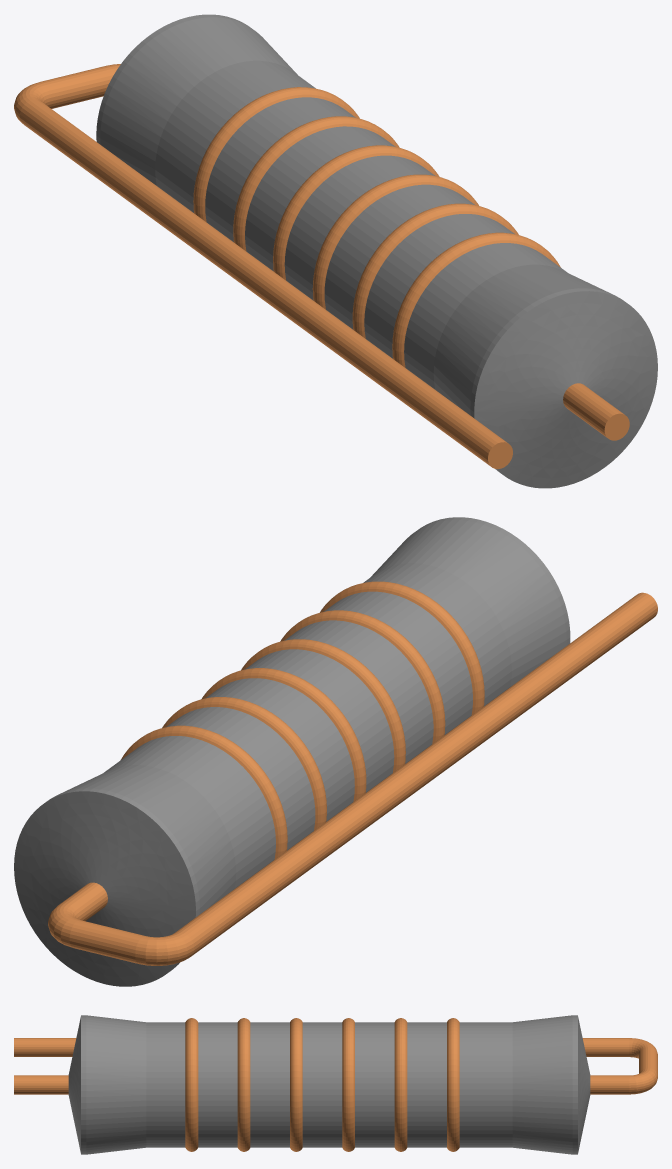
The model's file is L_Axial_L30.0mm_D8.0mm_P5.08mm_Vertical_Fastron_77A.glb.
The picture shows the model from 3 angles, top to bottom: view 1: azimuth 30°, elevation 25°; view 2: azimuth 150°, elevation 25°; view 3: azimuth 270°, elevation 25°; orthographic projection. The views are drawn at different scales.
Visible parts, largest first — view 1: Shape_IndexedFaceSet.002, Shape_IndexedFaceSet.025, Shape_IndexedFaceSet.018, Shape_IndexedFaceSet.017, Shape_IndexedFaceSet.004, Shape_IndexedFaceSet.005, Shape_IndexedFaceSet.015, Shape_IndexedFaceSet.007, Shape_IndexedFaceSet.013, Shape_IndexedFaceSet.009, Shape_IndexedFaceSet.011, Shape_IndexedFaceSet.006 (+9 smaller); view 2: Shape_IndexedFaceSet.020, Shape_IndexedFaceSet.025, Shape_IndexedFaceSet.004, Shape_IndexedFaceSet.017, Shape_IndexedFaceSet.018, Shape_IndexedFaceSet.009, Shape_IndexedFaceSet.011, Shape_IndexedFaceSet.015, Shape_IndexedFaceSet.013, Shape_IndexedFaceSet.007, Shape_IndexedFaceSet.005, Shape_IndexedFaceSet.012 (+11 smaller); view 3: Shape_IndexedFaceSet.004, Shape_IndexedFaceSet.018, Shape_IndexedFaceSet.017, Shape_IndexedFaceSet.011, Shape_IndexedFaceSet.005, Shape_IndexedFaceSet.007, Shape_IndexedFaceSet.009, Shape_IndexedFaceSet.013, Shape_IndexedFaceSet.015, Shape_IndexedFaceSet.025, Shape_IndexedFaceSet.014, Shape_IndexedFaceSet.006 (+13 smaller).
Boxes of the visible parts, <box> form: Shape_IndexedFaceSet.002: <box>474,291,657,488</box>; Shape_IndexedFaceSet.025: <box>20,99,506,466</box>; Shape_IndexedFaceSet.018: <box>100,17,297,185</box>; Shape_IndexedFaceSet.017: <box>155,60,315,212</box>; Shape_IndexedFaceSet.004: <box>433,264,610,415</box>; Shape_IndexedFaceSet.005: <box>404,243,567,389</box>; Shape_IndexedFaceSet.015: <box>205,97,355,242</box>; Shape_IndexedFaceSet.007: <box>364,214,514,358</box>; Shape_IndexedFaceSet.013: <box>245,126,395,271</box>; Shape_IndexedFaceSet.009: <box>324,184,474,329</box>; Shape_IndexedFaceSet.011: <box>284,155,434,300</box>; Shape_IndexedFaceSet.006: <box>392,232,560,367</box>; Shape_IndexedFaceSet.020: <box>14,791,195,986</box>; Shape_IndexedFaceSet.025: <box>175,592,657,956</box>; Shape_IndexedFaceSet.004: <box>371,520,566,686</box>; Shape_IndexedFaceSet.017: <box>104,736,275,888</box>; Shape_IndexedFaceSet.018: <box>60,765,236,914</box>; Shape_IndexedFaceSet.009: <box>284,620,433,763</box>; Shape_IndexedFaceSet.011: <box>245,649,394,792</box>; Shape_IndexedFaceSet.015: <box>166,707,315,850</box>; Shape_IndexedFaceSet.013: <box>206,678,354,821</box>; Shape_IndexedFaceSet.007: <box>324,591,472,734</box>; Shape_IndexedFaceSet.005: <box>363,563,511,706</box>; Shape_IndexedFaceSet.012: <box>201,668,366,801</box>; Shape_IndexedFaceSet.004: <box>86,1015,146,1154</box>; Shape_IndexedFaceSet.018: <box>512,1015,572,1154</box>; Shape_IndexedFaceSet.017: <box>459,1022,512,1147</box>; Shape_IndexedFaceSet.011: <box>302,1022,342,1147</box>; Shape_IndexedFaceSet.005: <box>146,1022,185,1147</box>; Shape_IndexedFaceSet.007: <box>198,1022,237,1147</box>; Shape_IndexedFaceSet.009: <box>250,1022,289,1147</box>; Shape_IndexedFaceSet.013: <box>355,1022,394,1147</box>; Shape_IndexedFaceSet.015: <box>407,1022,446,1147</box>; Shape_IndexedFaceSet.025: <box>14,1038,629,1056</box>; Shape_IndexedFaceSet.014: <box>394,1018,407,1151</box>; Shape_IndexedFaceSet.006: <box>185,1018,198,1151</box>.
Bounding box in the file's own units: 3.79 × 3.15 × 14.55.
